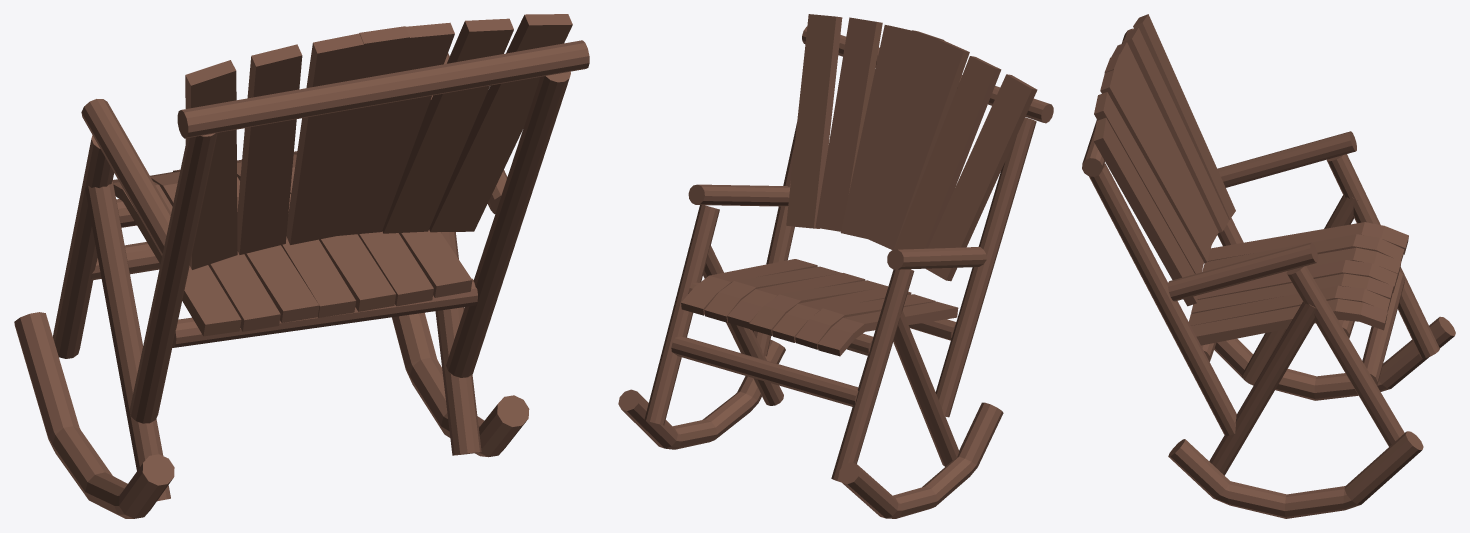
Rendered from rocking-chair.glb.
3 views of the same model, side by side, from view 1: azimuth 30°, elevation 25°; view 2: azimuth 150°, elevation 25°; view 3: azimuth 270°, elevation 25° (orthographic). The views are drawn at different scales.
Parts seen in each view (by area): view 1: group268154718; view 2: group268154718; view 3: group268154718.
Boxes of the visible parts, x1,y1,x2,y2 form: group268154718: (14, 14, 589, 518); group268154718: (618, 14, 1053, 518); group268154718: (1082, 14, 1455, 518).
Bounding box in the file's own units: 0.9857 × 1.22 × 1.06.
